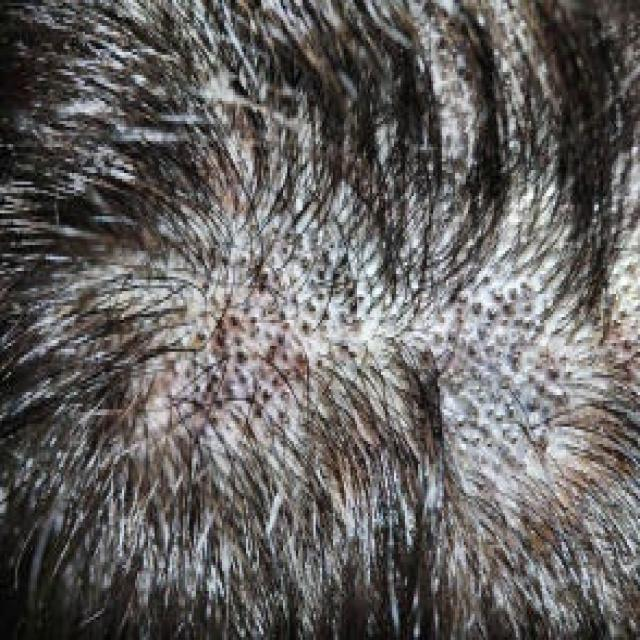Tinea Ringworm Candidiasis and other Fungal Infections: (129, 150, 592, 467)
